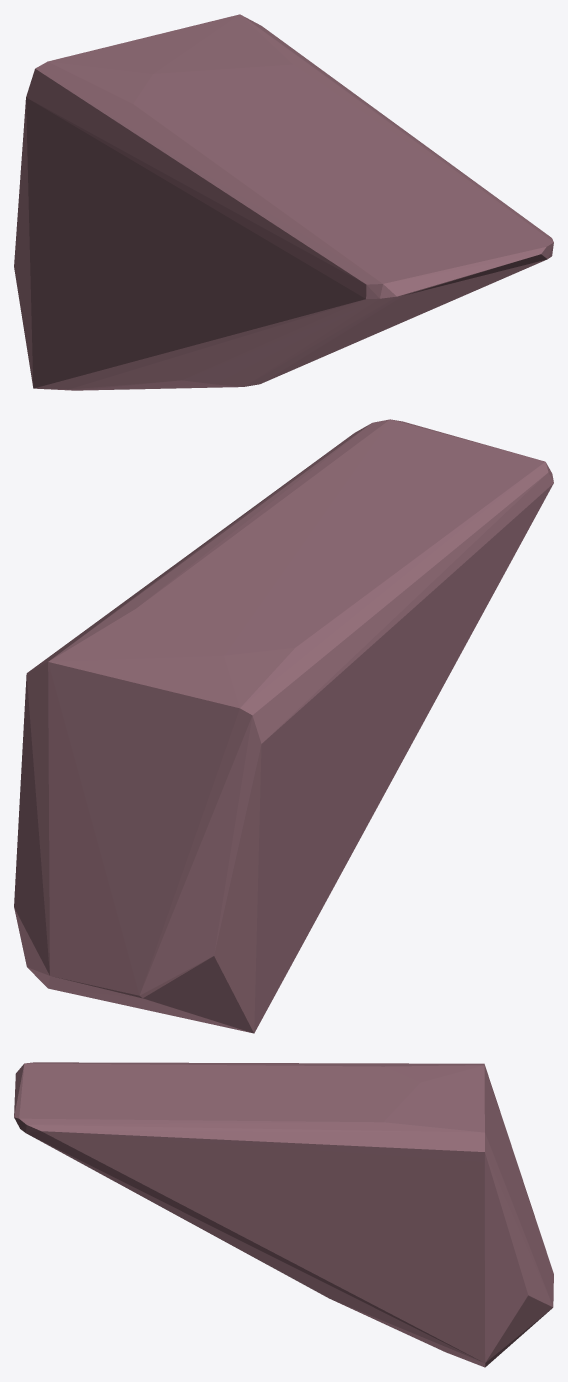
Rendered from trolley_cleaning_b01.glb.
3 renders of one model, top to bottom at view 1: azimuth 30°, elevation 25°; view 2: azimuth 150°, elevation 25°; view 3: azimuth 270°, elevation 25°, orthographic. The views are drawn at different scales.
Parts seen in each view (by area): view 1: geometry_0; view 2: geometry_0; view 3: geometry_0.
Boxes of the visible parts, x1,y1,x2,y2 form: geometry_0: (14, 14, 553, 390); geometry_0: (14, 419, 553, 1033); geometry_0: (14, 1062, 553, 1367).
Size of the model in its own units: 0.1727 by 0.2368 by 0.4782.
